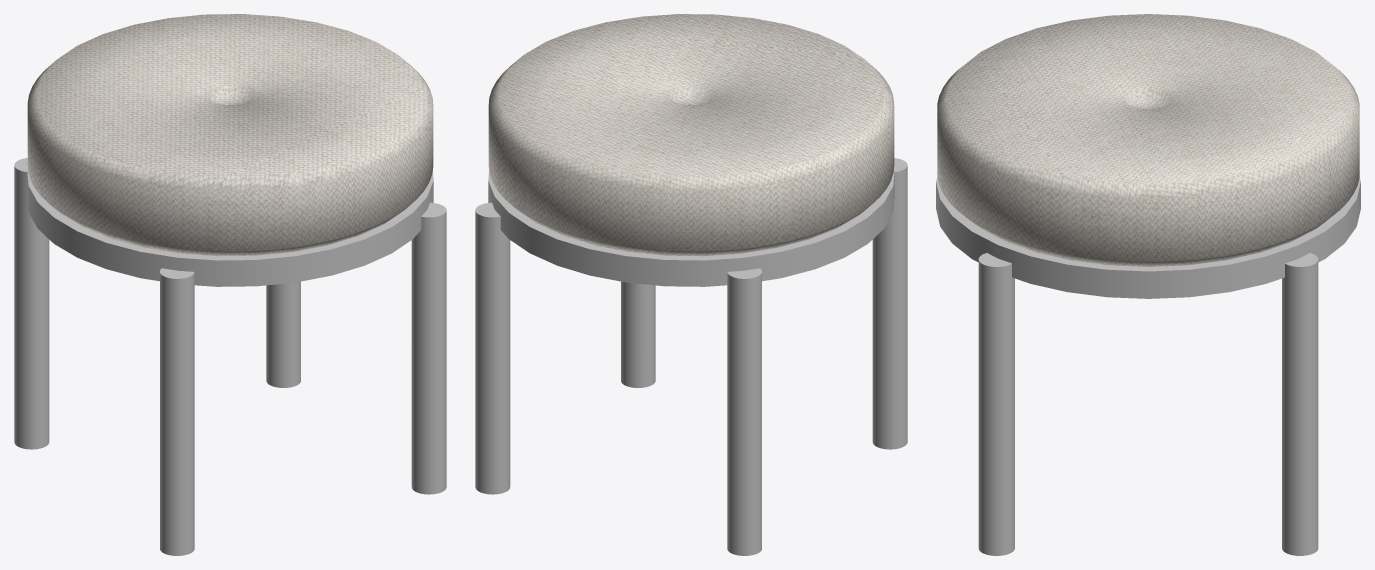
File: furniture_seating_210056.glb
3 renders of one model, left to right at view 1: azimuth 30°, elevation 25°; view 2: azimuth 150°, elevation 25°; view 3: azimuth 270°, elevation 25°, orthographic. The views are drawn at different scales.
Parts seen in each view (by area): view 1: furniture_seating_210056; view 2: furniture_seating_210056; view 3: furniture_seating_210056.
Boxes of the visible parts, x1,y1,x2,y2 form: furniture_seating_210056: (14, 14, 446, 555); furniture_seating_210056: (475, 14, 907, 555); furniture_seating_210056: (936, 14, 1360, 555).
Size of the model in its own units: 0.336 by 0.336 by 0.336.
1 material, 1 textured.
